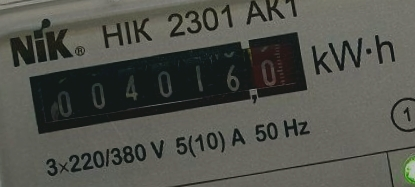0: (152, 64, 178, 102), (52, 85, 78, 120), (86, 77, 110, 113), (256, 54, 280, 89)
1: (189, 59, 209, 95)
4: (119, 69, 142, 105)
6: (220, 59, 243, 93)
screen: (20, 23, 318, 142)
